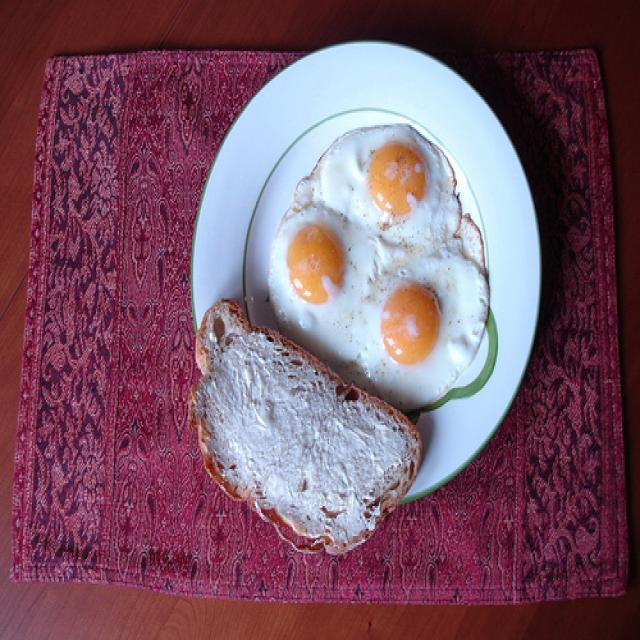Bread: (185, 292, 422, 560)
Egg: (361, 239, 494, 420), (321, 110, 461, 248), (264, 193, 366, 349)
